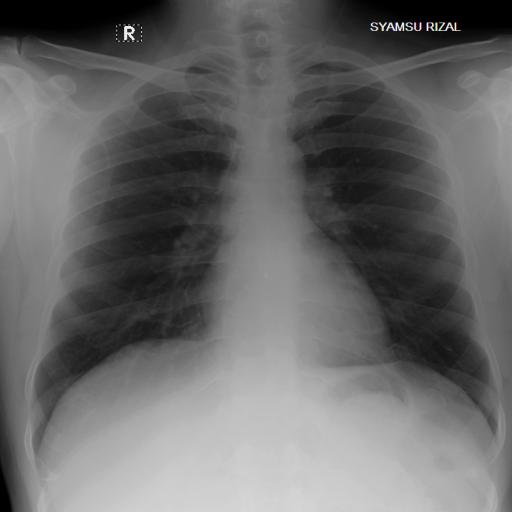normal: (27, 36, 507, 454)
